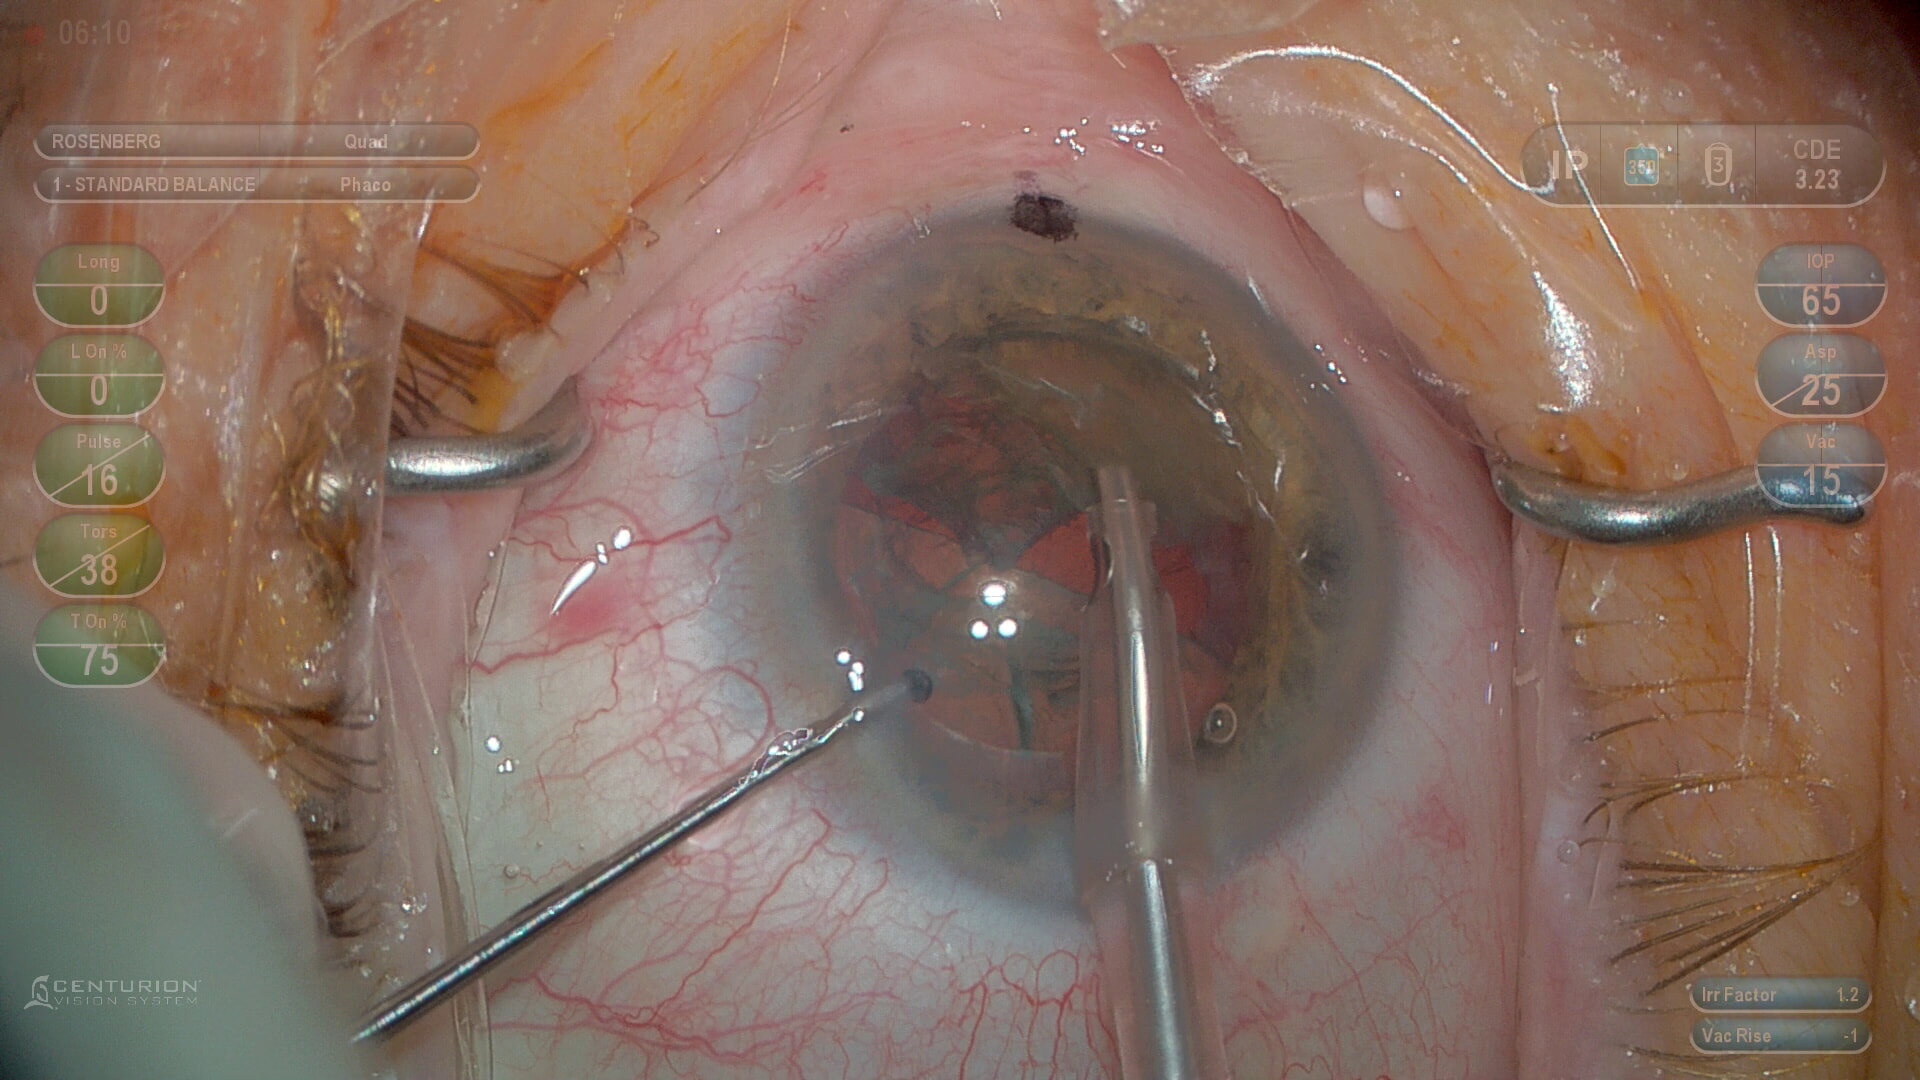iris: (764, 219, 1386, 904)
pupil: (820, 316, 1277, 797)
